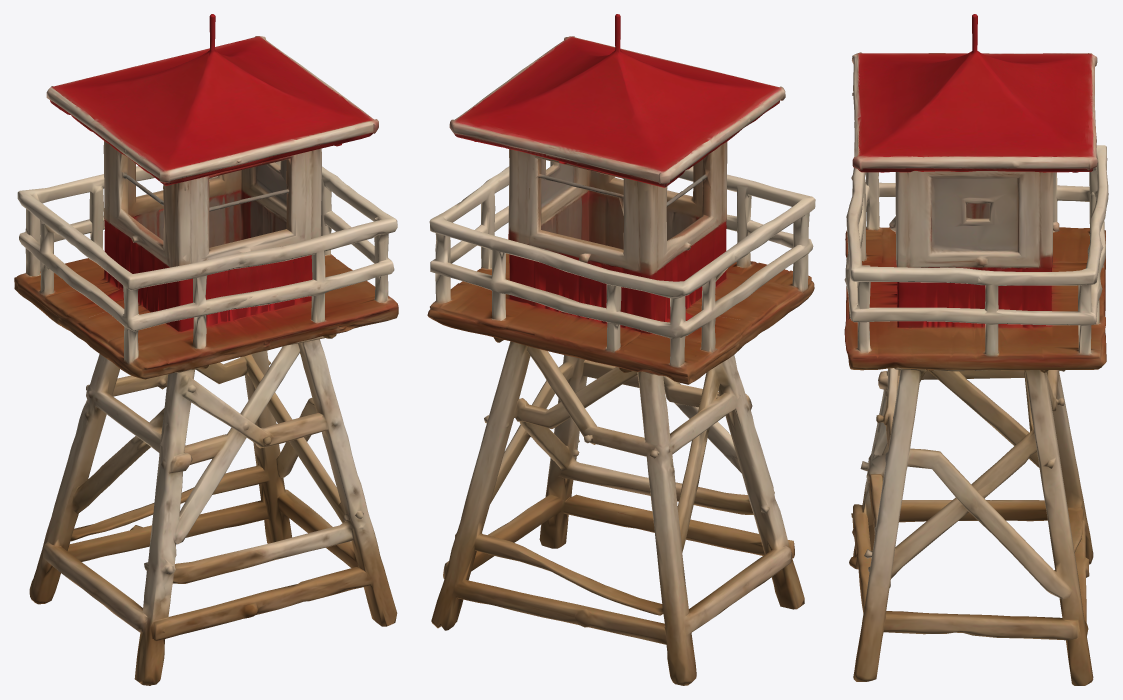
The model's file is praia_vigia.glb.
3 views of the same model, side by side, from view 1: azimuth 30°, elevation 25°; view 2: azimuth 150°, elevation 25°; view 3: azimuth 270°, elevation 25° (orthographic).
Parts seen in each view (by area): view 1: tripo_node_248f2b87-a828-4842-98ff-40773c6cc2b6; view 2: tripo_node_248f2b87-a828-4842-98ff-40773c6cc2b6; view 3: tripo_node_248f2b87-a828-4842-98ff-40773c6cc2b6.
Part boxes in pixels (x1,y1,x2,y2): tripo_node_248f2b87-a828-4842-98ff-40773c6cc2b6: (14, 14, 398, 685); tripo_node_248f2b87-a828-4842-98ff-40773c6cc2b6: (427, 14, 815, 685); tripo_node_248f2b87-a828-4842-98ff-40773c6cc2b6: (844, 14, 1108, 685).
Size of the model in its own units: 0.4636 by 0.9806 by 0.3861.
Materials: 1 (1 with a texture image).
